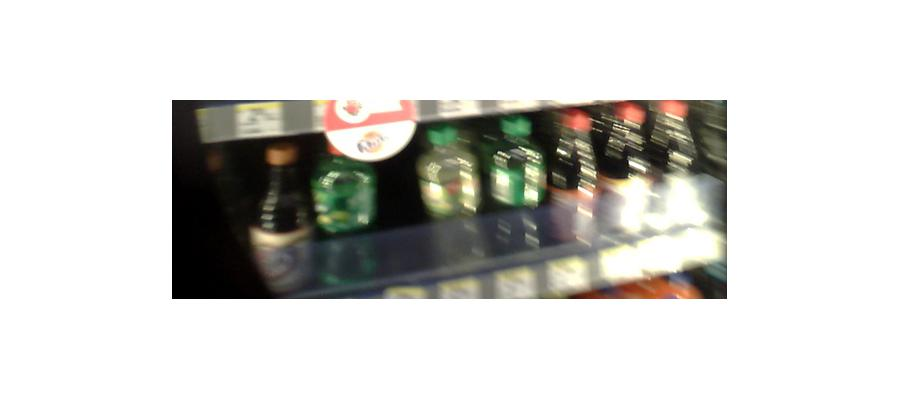bottle: (308, 140, 381, 281), (253, 139, 310, 297), (419, 122, 481, 262), (487, 124, 547, 260), (595, 104, 641, 249), (547, 113, 587, 244)
